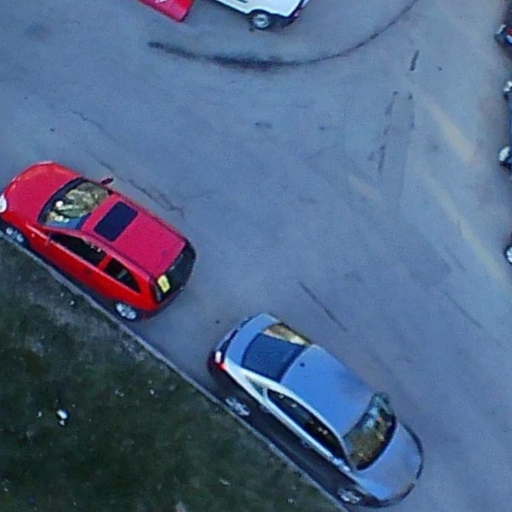Car: (209, 311, 423, 507), (0, 158, 199, 319)
